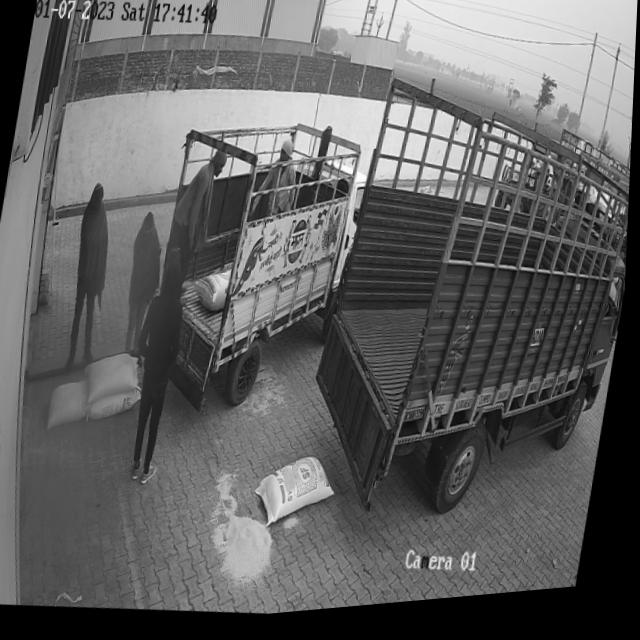sack: (253, 454, 343, 540), (84, 349, 144, 408), (48, 377, 95, 433), (89, 389, 145, 427)
